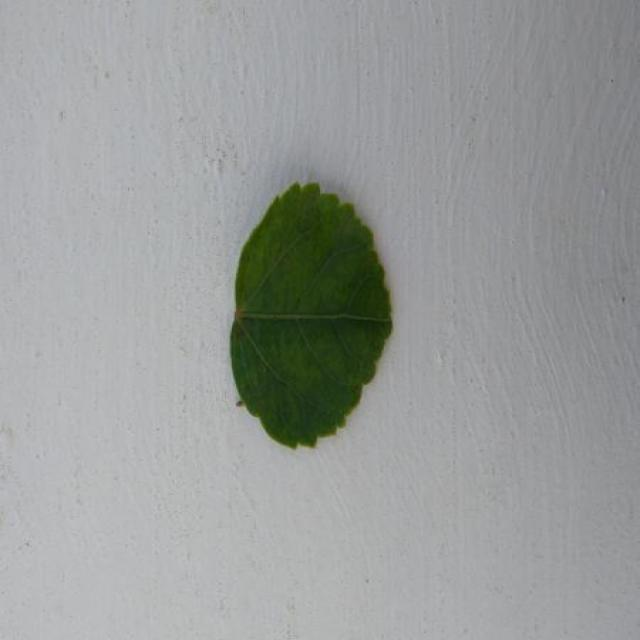Hibiscus: (230, 184, 392, 447)
